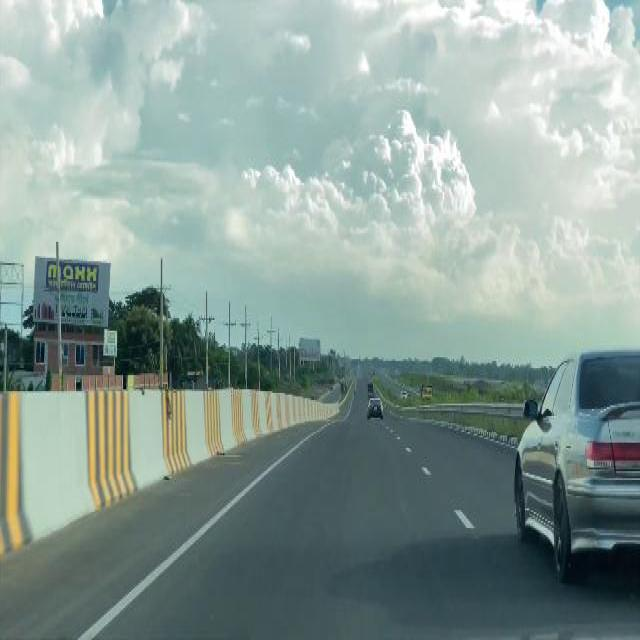car: (513, 349, 639, 583), (366, 396, 382, 418), (399, 389, 406, 396)
